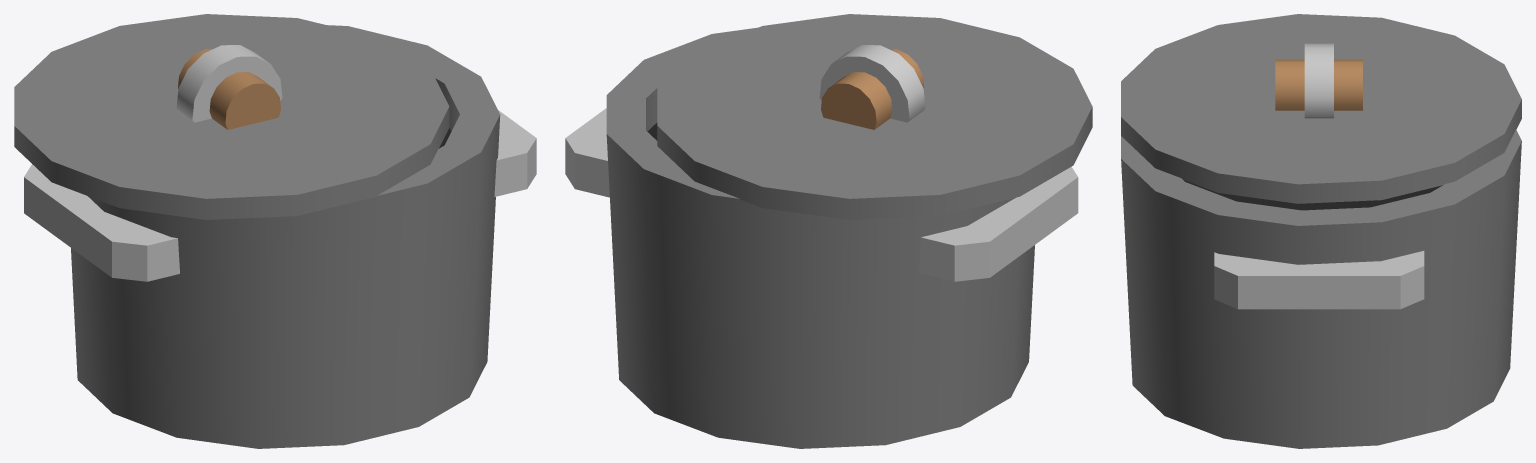
Rendered from Casserole 2.fbx.
3 renders of one model, left to right at view 1: azimuth 30°, elevation 25°; view 2: azimuth 150°, elevation 25°; view 3: azimuth 270°, elevation 25°, orthographic. The views are drawn at different scales.
Parts seen in each view (by area): view 1: Casserole 2; view 2: Casserole 2; view 3: Casserole 2.
Part boxes in pixels (x1,y1,x2,y2): Casserole 2: (14, 14, 536, 448); Casserole 2: (565, 14, 1092, 448); Casserole 2: (1121, 14, 1521, 448).
Bounding box in the file's own units: 75.5 × 51.53 × 62.88.
